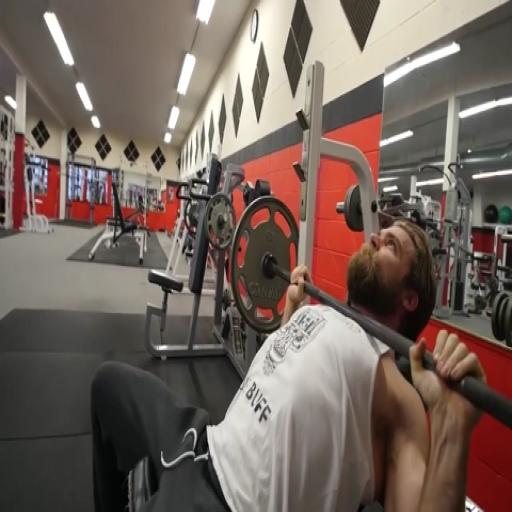exercise: (88, 216, 490, 511)
